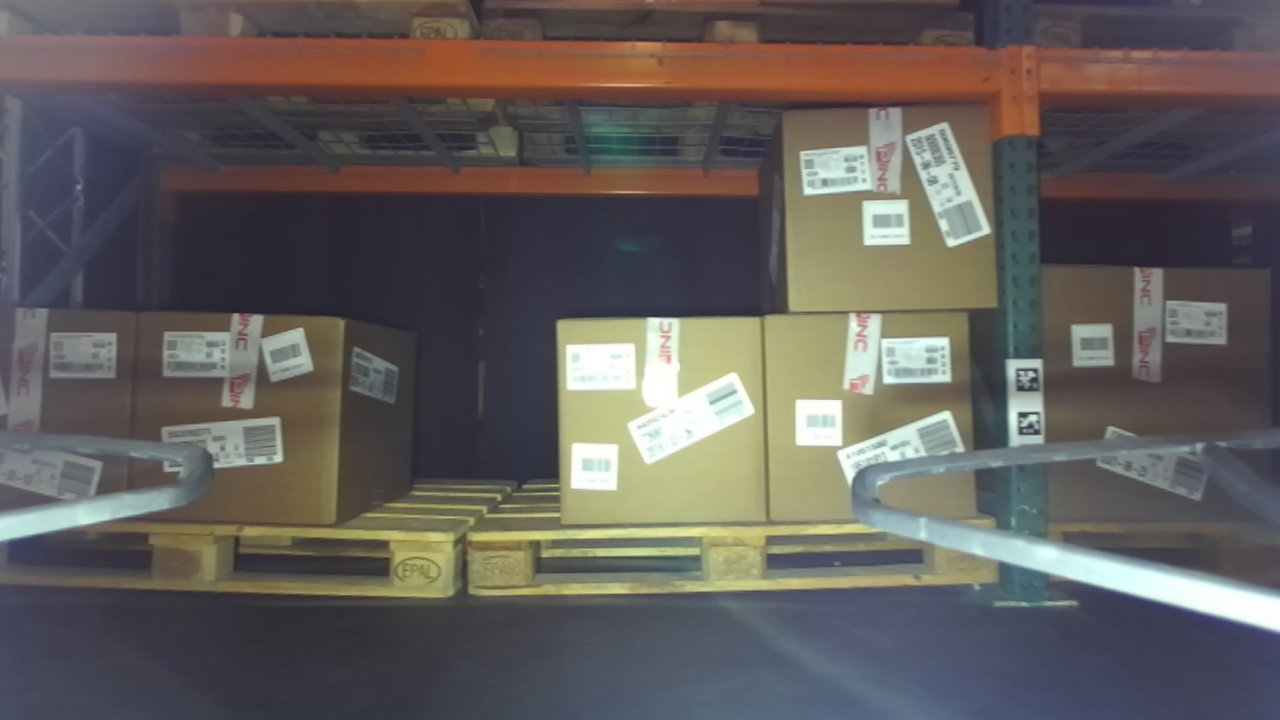box: (1027, 250, 1280, 547), (751, 291, 999, 564), (543, 298, 788, 551), (125, 295, 365, 538), (758, 103, 1008, 318)
